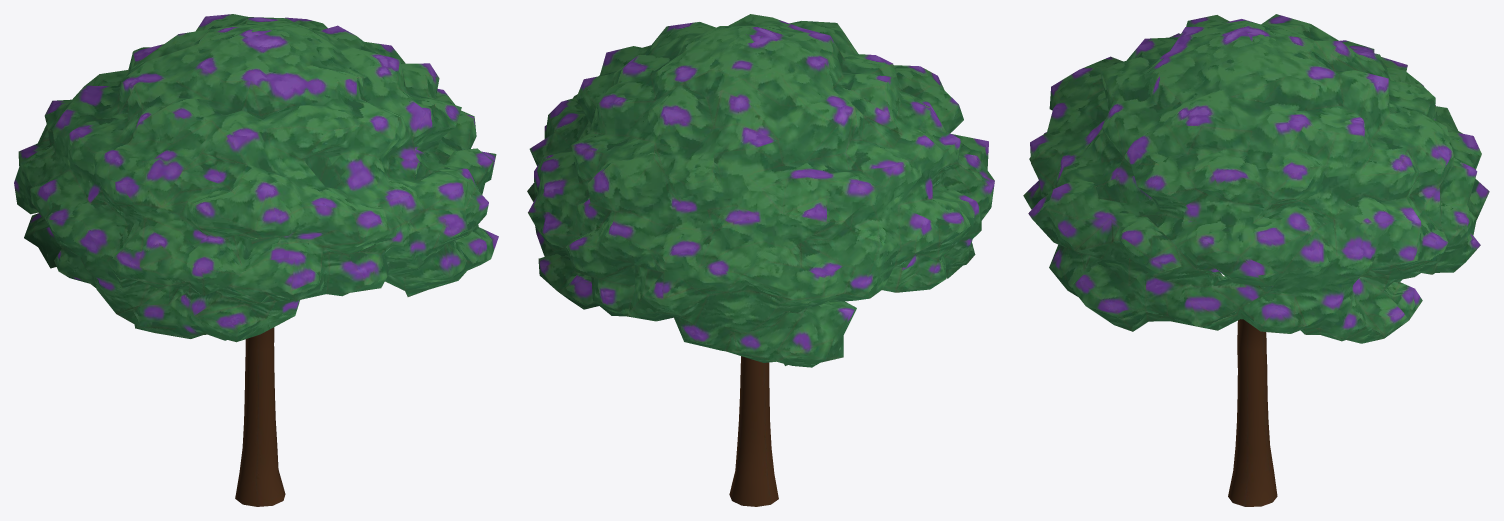
File: tree_round_a.glb
3 renders of one model, left to right at view 1: azimuth 30°, elevation 25°; view 2: azimuth 150°, elevation 25°; view 3: azimuth 270°, elevation 25°, orthographic.
Visible parts, largest first — view 1: body; view 2: body; view 3: body.
Boxes of the visible parts, left/top/right/bottom form: body: left=14, top=14, right=498, bottom=506; body: left=527, top=14, right=994, bottom=506; body: left=1023, top=14, right=1489, bottom=506.
Size of the model in its own units: 5.21 by 5.51 by 5.04.
2 materials, 2 textured.
